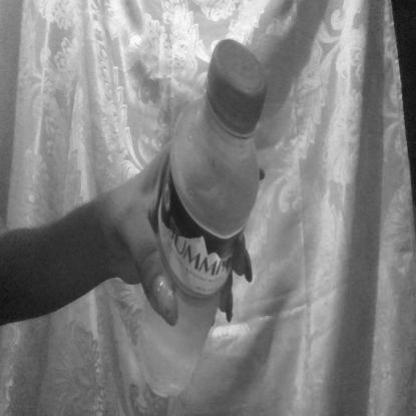Plastic Bottle: (123, 14, 277, 398)
